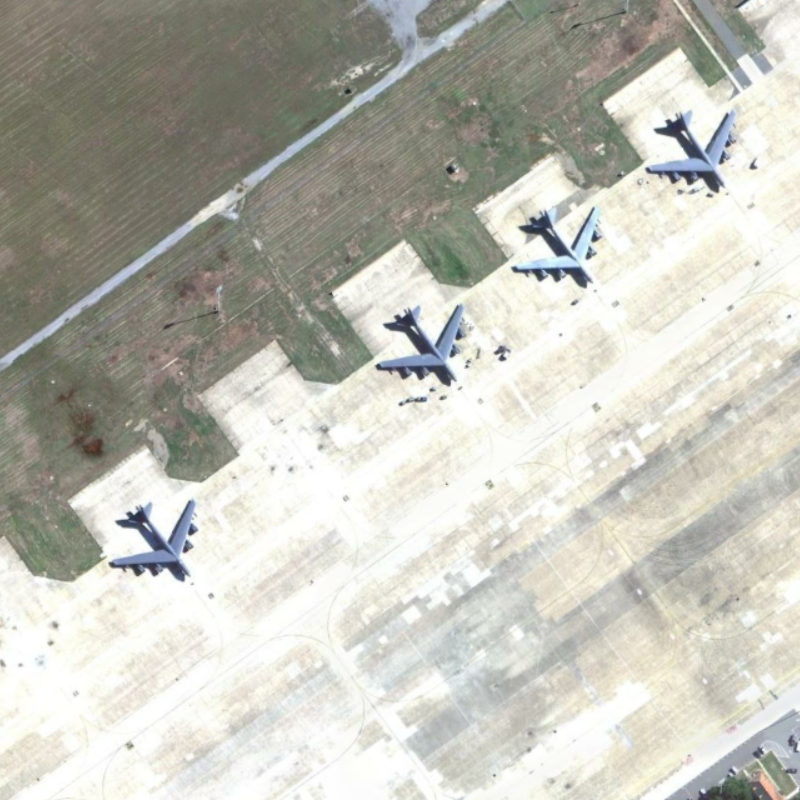A8: (368, 296, 472, 392), (99, 494, 204, 588), (643, 100, 740, 201), (509, 200, 605, 295)
